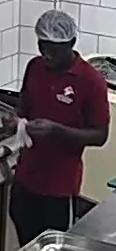no_apron: (16, 33, 93, 194)
